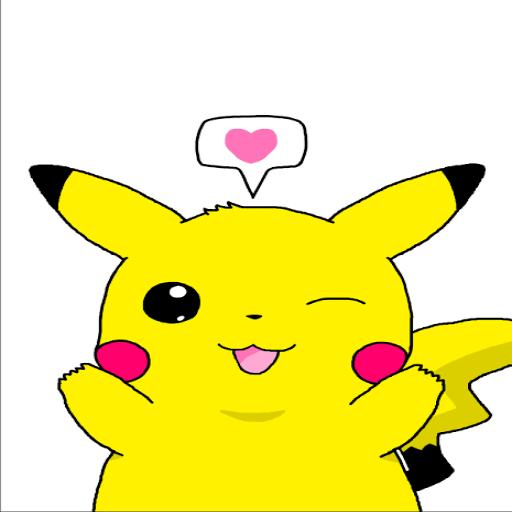Pikachu: (25, 161, 512, 512)
